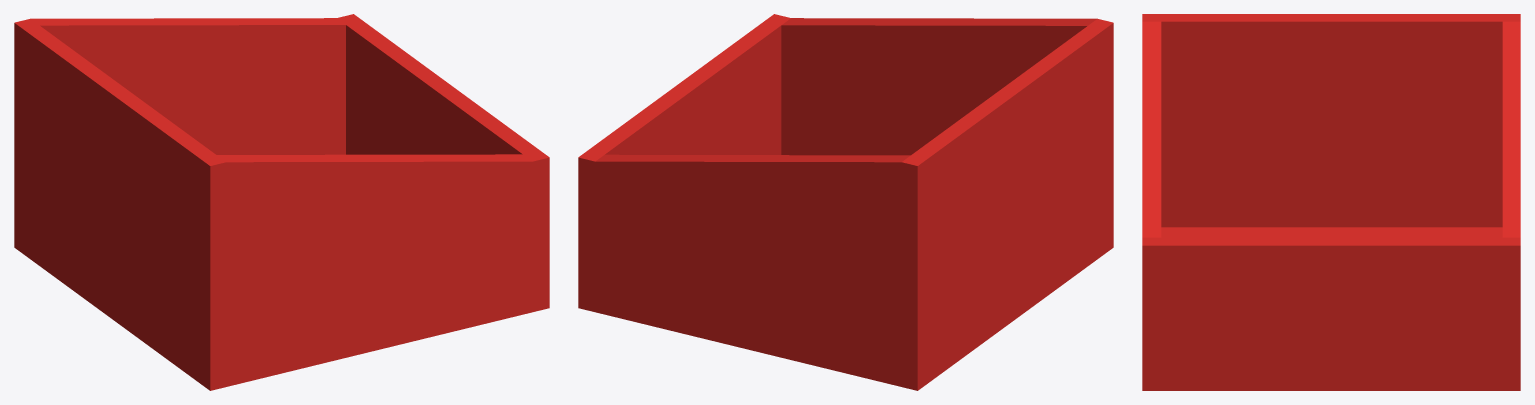
File: red_target.dae
3 views of the same model, side by side, from view 1: azimuth 30°, elevation 25°; view 2: azimuth 150°, elevation 25°; view 3: azimuth 270°, elevation 25° (orthographic). The views are drawn at different scales.
Parts seen in each view (by area): view 1: Cube; view 2: Cube; view 3: Cube.
Part boxes in pixels (x1,y1,x2,y2): Cube: (14, 14, 549, 390); Cube: (578, 14, 1113, 390); Cube: (1142, 14, 1520, 390).
Size of the model in its own units: 0.6 by 0.6 by 0.3797.
